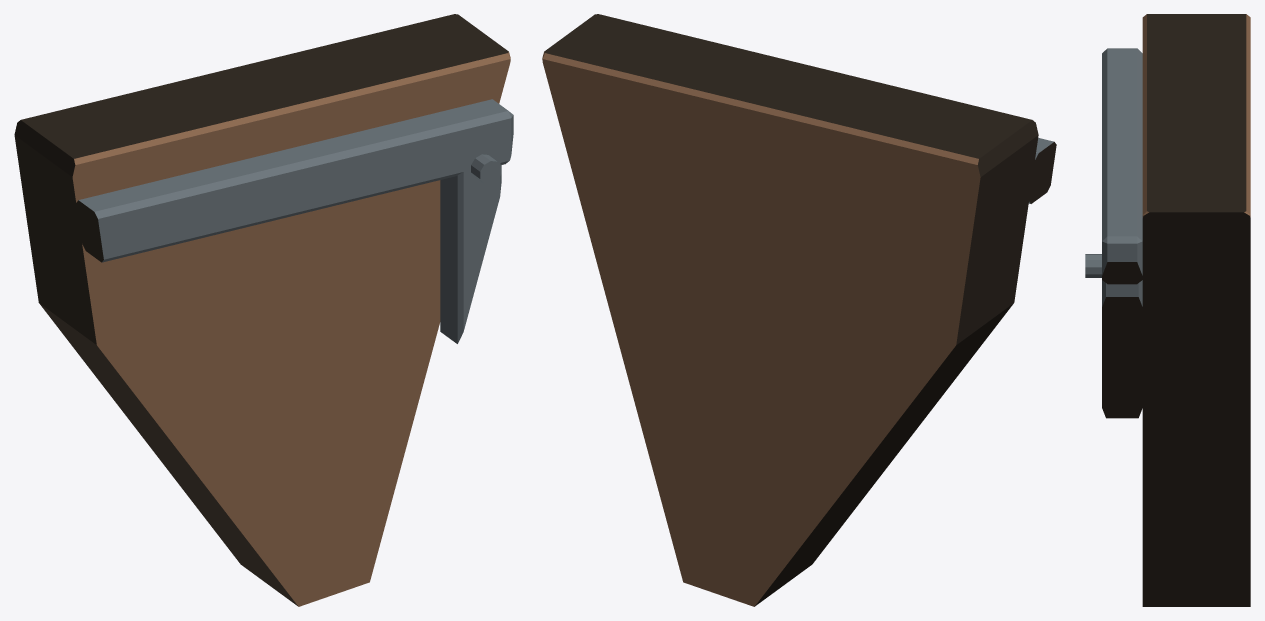
File: SM_DoorShard_02_48.fbx
3 views of the same model, side by side, from view 1: azimuth 30°, elevation 25°; view 2: azimuth 150°, elevation 25°; view 3: azimuth 270°, elevation 25° (orthographic). The views are drawn at different scales.
Visible parts, largest first — view 1: SM_DoorShard_02_48; view 2: SM_DoorShard_02_48; view 3: SM_DoorShard_02_48.
Boxes of the visible parts, <box> form: SM_DoorShard_02_48: <box>14,14,513,606</box>; SM_DoorShard_02_48: <box>542,14,1056,606</box>; SM_DoorShard_02_48: <box>1085,14,1250,606</box>.
Size of the model in its own units: 70.02 by 24.5 by 76.1.
